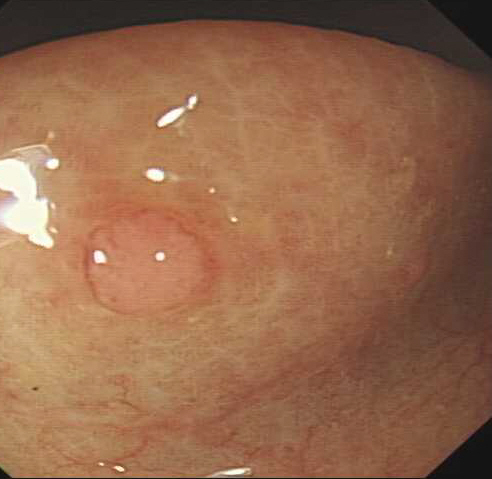others: (80, 206, 215, 321)
